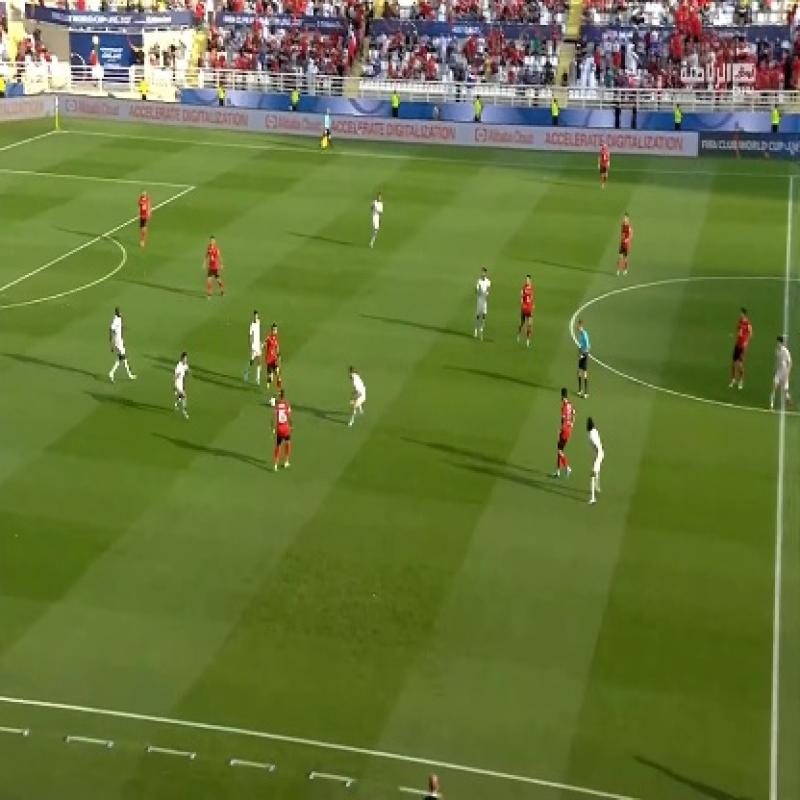1: (47, 120, 66, 136)
10: (94, 223, 116, 244)
13: (784, 163, 800, 186)
14: (777, 266, 798, 290)
15: (769, 394, 792, 425)
9: (182, 175, 200, 196)
c: (553, 305, 592, 344)
